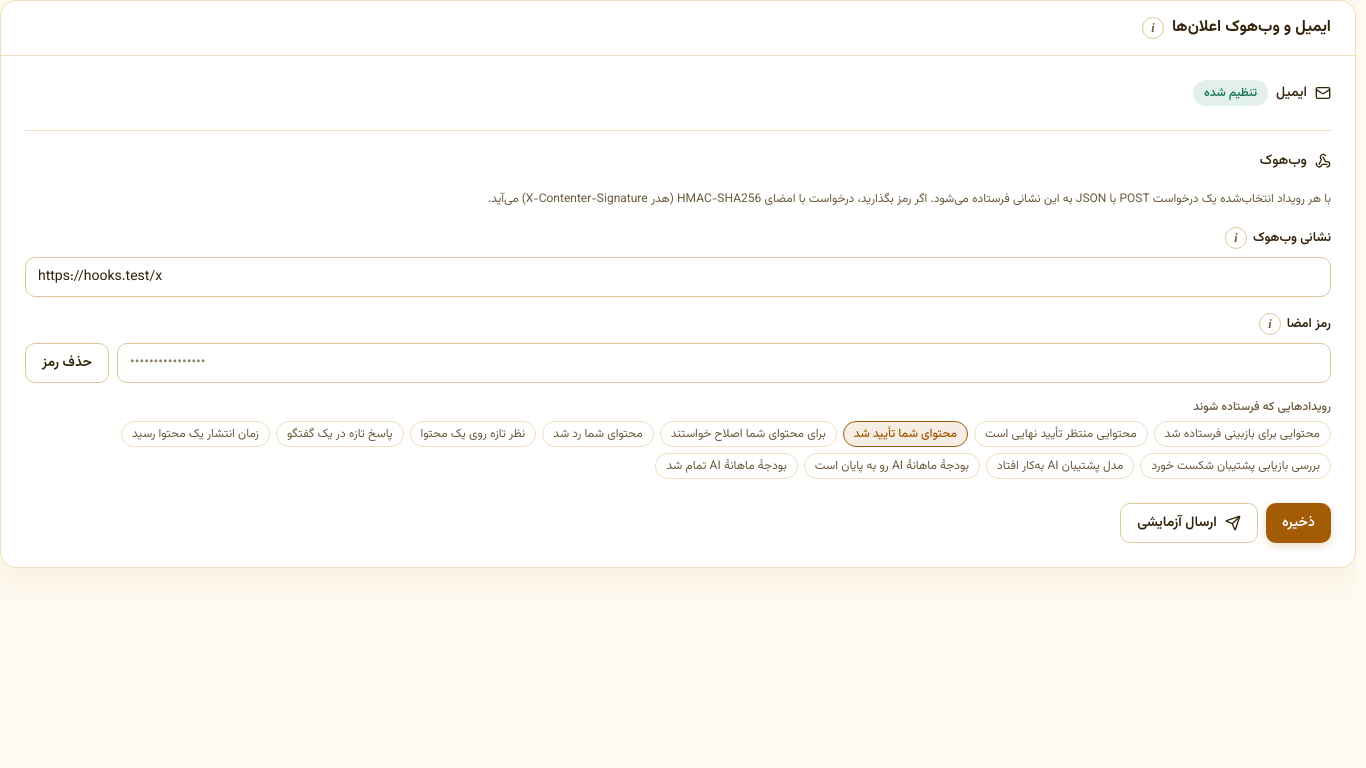
NotificationSettingsCard › sends a test and shows what happened per channel
The image size is (1366, 768).
Click the button "ارسال آزمایشی" at (1189, 523), box [1120,503,1258,543]
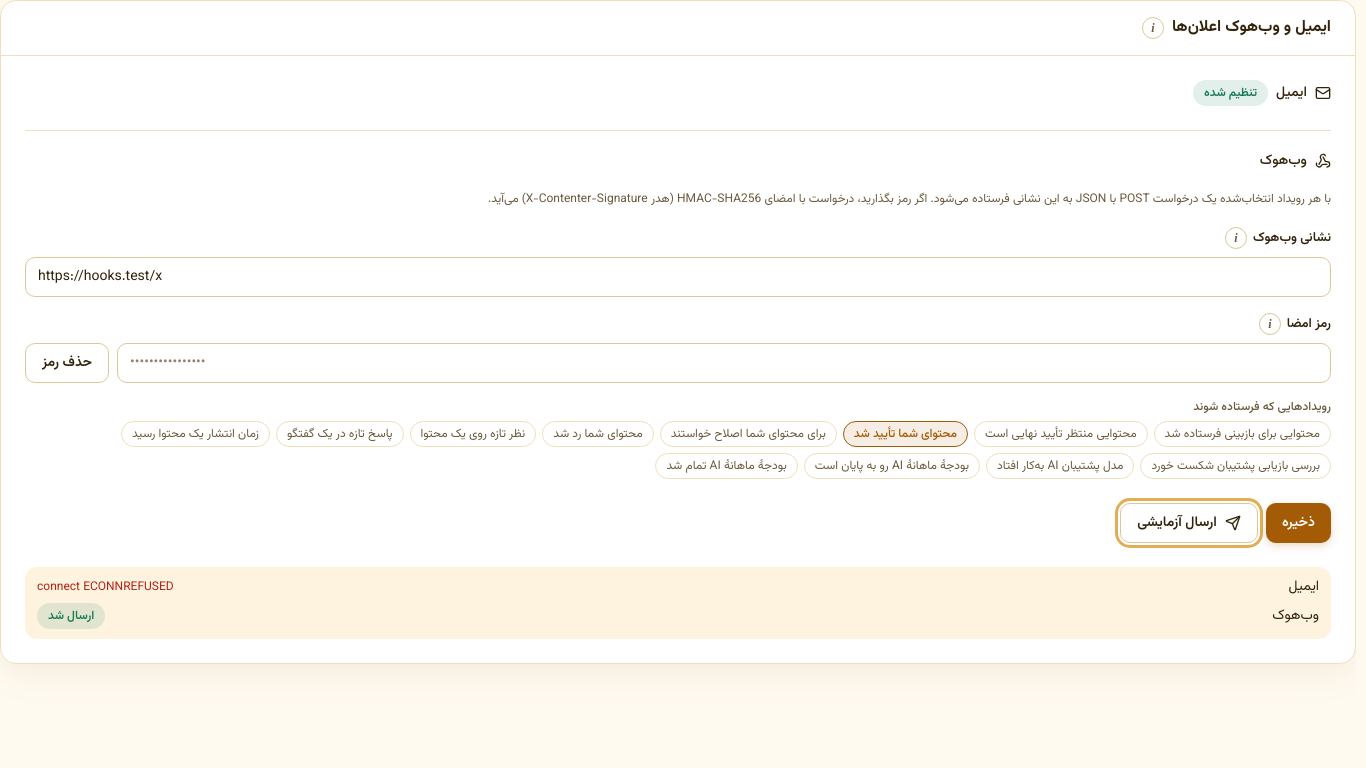
Expected: the text "connect ECONNREFUSED" is shown, [37,578,174,596]
Expected: the text "ارسال شد" is shown, [37,603,105,629]
